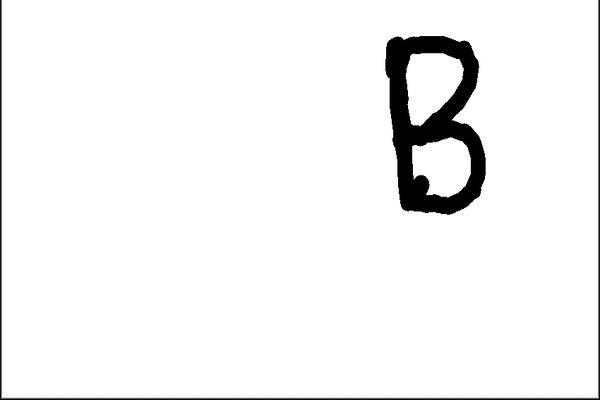B: (377, 25, 494, 223)
